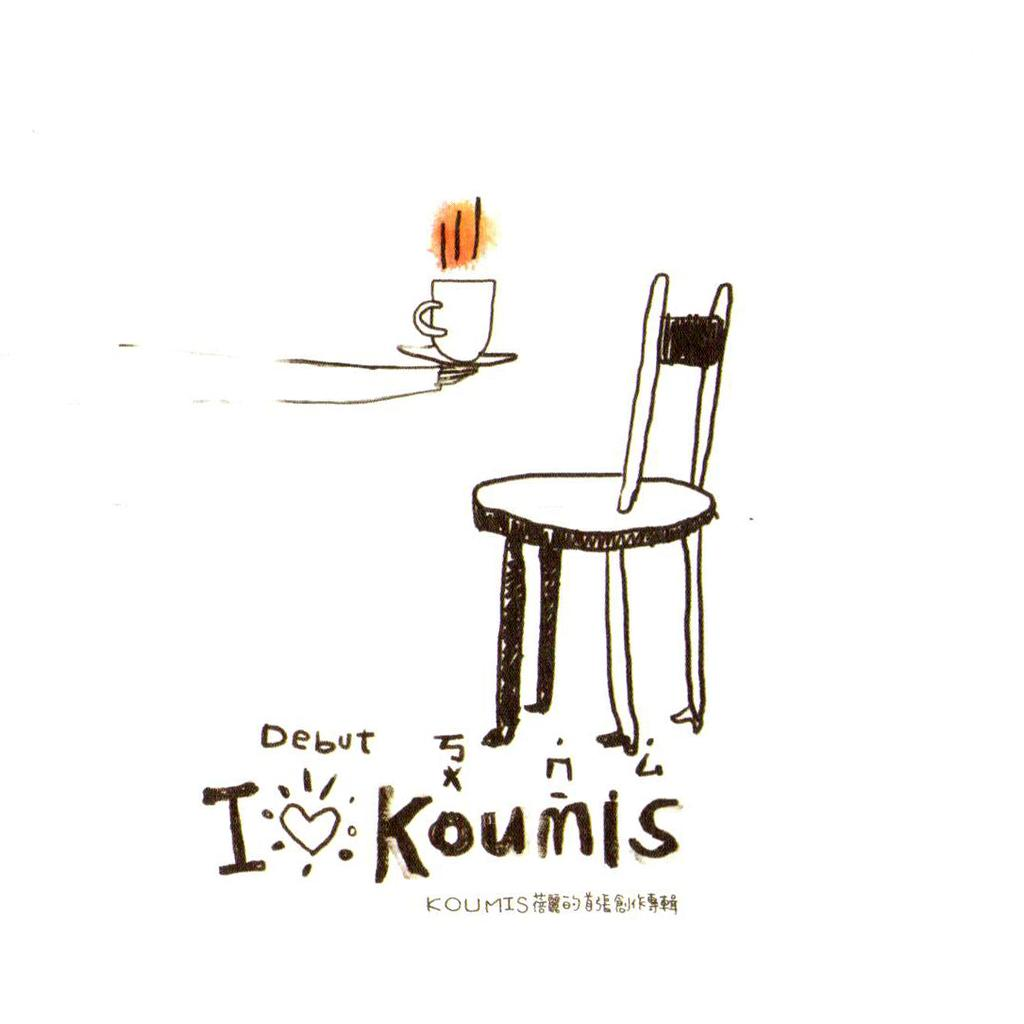Chair: (453, 272, 768, 772)
